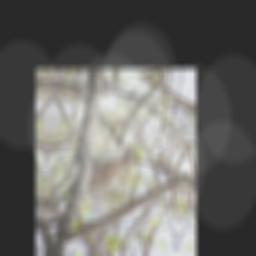Cuckoo: (40, 138, 133, 221)
